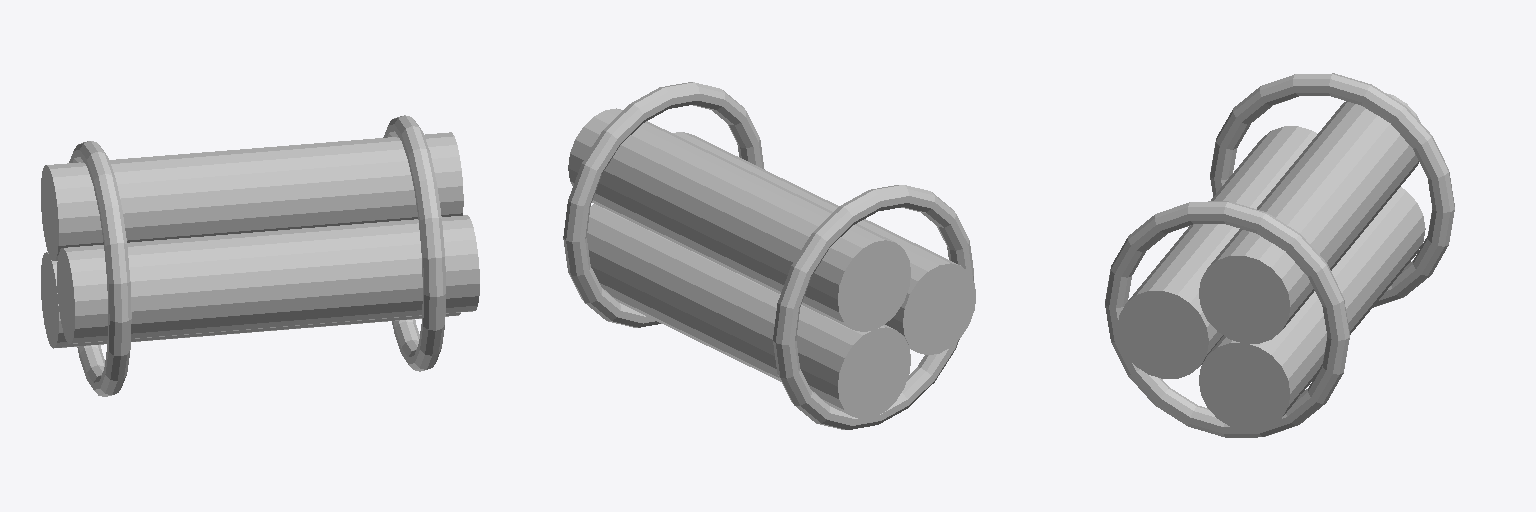
Rendered from bomb.obj.
3 renders of one model, left to right at view 1: azimuth 30°, elevation 25°; view 2: azimuth 150°, elevation 25°; view 3: azimuth 270°, elevation 25°, orthographic.
Visible parts, largest first — view 1: pCylinder3, pCylinder2, pTorus2, pTorus1, pCylinder1; view 2: pCylinder2, pCylinder1, pTorus1, pTorus2, pCylinder3; view 3: pCylinder2, pCylinder1, pCylinder3, pTorus2, pTorus1.
Boxes of the visible parts, box(x1,y1,x2,y2) form: pCylinder3: box(57, 215, 479, 343); pCylinder2: box(41, 132, 463, 260); pTorus2: box(383, 115, 445, 371); pTorus1: box(69, 141, 131, 396); pCylinder1: box(41, 252, 460, 348); pCylinder2: box(568, 108, 910, 331); pCylinder1: box(587, 204, 910, 418); pTorus1: box(773, 185, 973, 429); pTorus2: box(563, 82, 764, 327); pCylinder3: box(673, 132, 975, 355); pCylinder2: box(1199, 93, 1419, 343); pCylinder1: box(1199, 187, 1425, 430); pCylinder3: box(1117, 126, 1316, 378); pTorus2: box(1105, 201, 1349, 437); pTorus1: box(1210, 73, 1454, 307).
Size of the model in its own units: 1.34 by 0.7713 by 1.04.